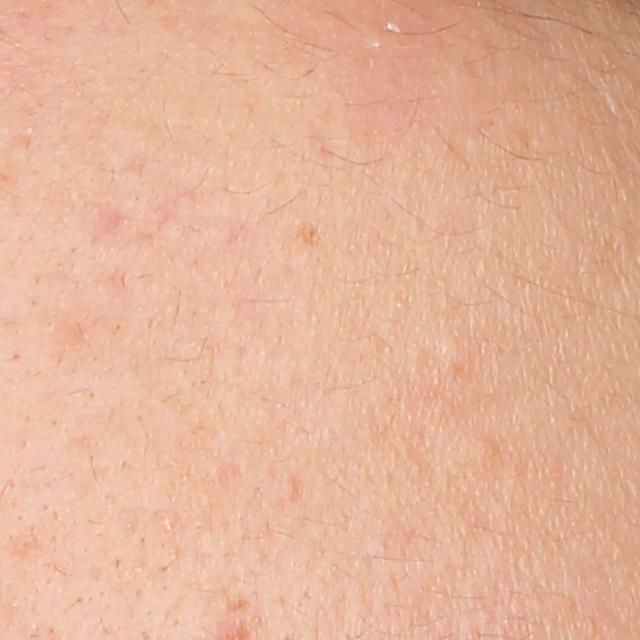comedo: (157, 512, 177, 534)
